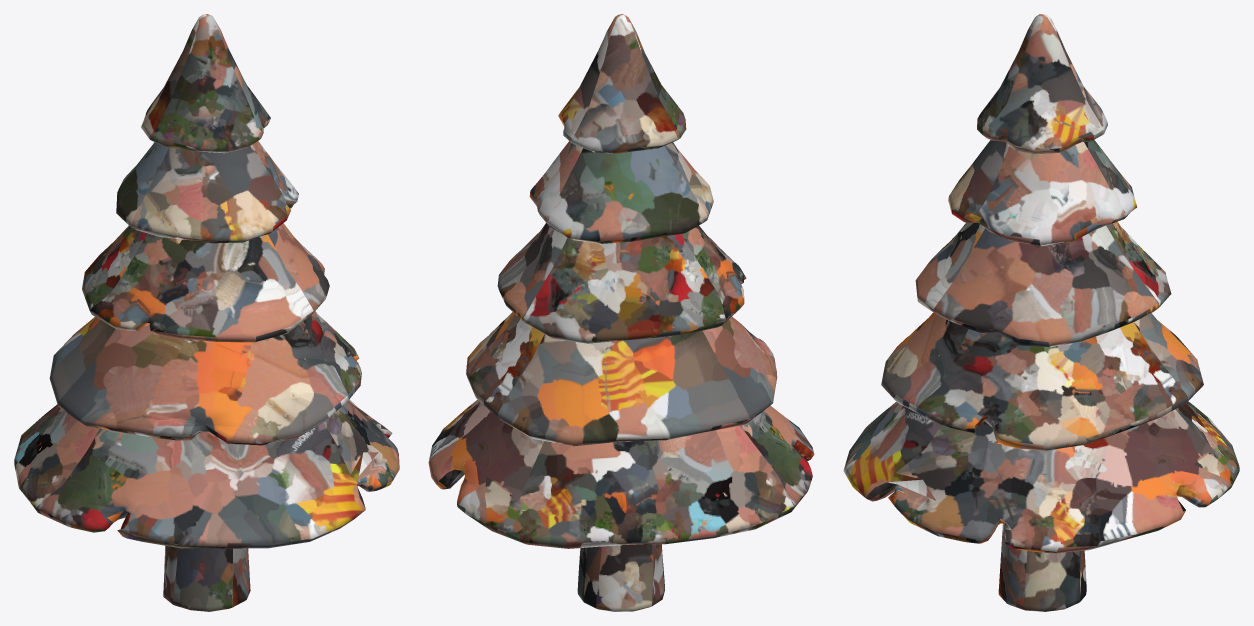
The model's file is tree.fbx.
3 views of the same model, side by side, from view 1: azimuth 30°, elevation 25°; view 2: azimuth 150°, elevation 25°; view 3: azimuth 270°, elevation 25° (orthographic).
Visible parts, largest first — view 1: Mesh0; view 2: Mesh0; view 3: Mesh0.
Part boxes in pixels (x1=…): Mesh0: x1=14, y1=14, x2=399, y2=611; Mesh0: x1=428, y1=14, x2=814, y2=611; Mesh0: x1=843, y1=14, x2=1239, y2=611.
Bounding box in the file's own units: 118 × 191 × 118.
